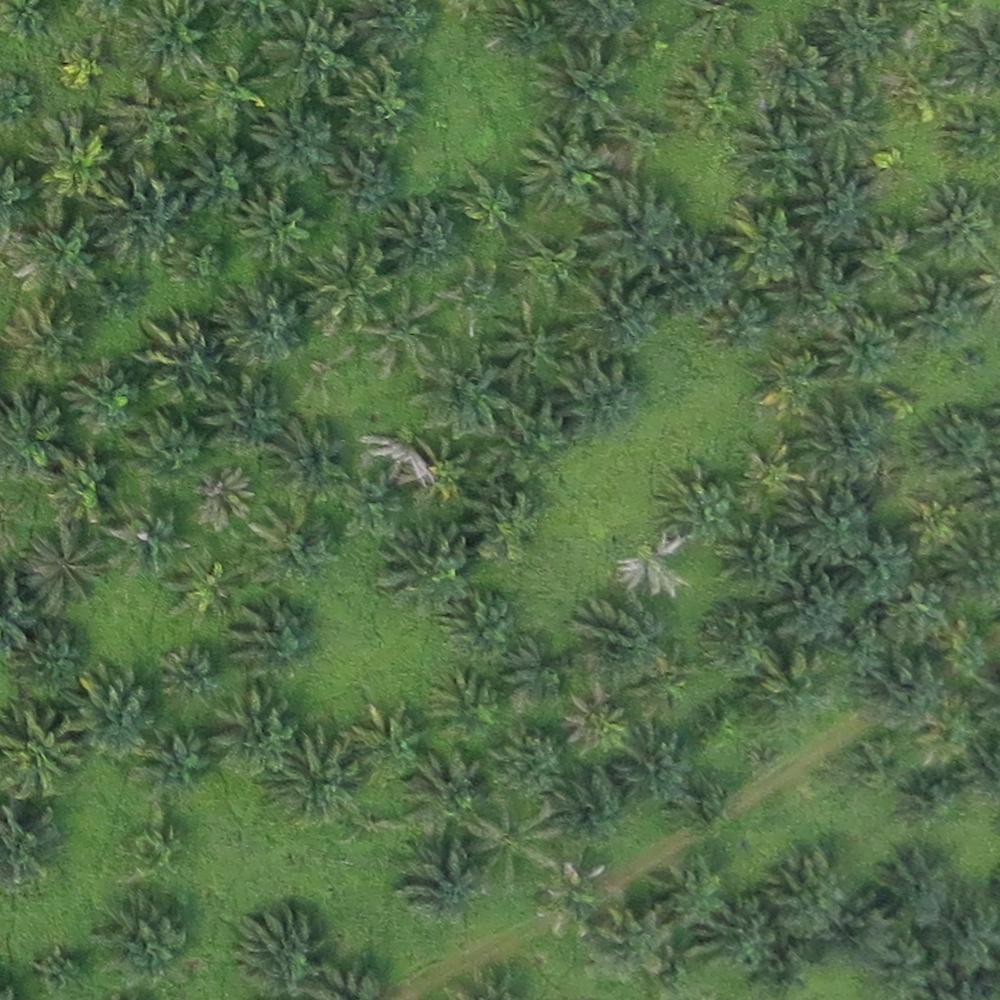Palm: (522, 42, 628, 135), (94, 891, 192, 984), (588, 182, 687, 274), (396, 834, 488, 931), (455, 471, 550, 563), (517, 125, 611, 217), (222, 592, 316, 683), (231, 902, 322, 996), (373, 524, 465, 615), (73, 663, 157, 761), (263, 1, 353, 92), (563, 271, 660, 355), (3, 698, 86, 796), (94, 168, 183, 259), (408, 359, 503, 444), (20, 523, 107, 615), (275, 731, 363, 821), (215, 279, 306, 365), (301, 243, 387, 333), (585, 898, 678, 981), (653, 460, 739, 549), (255, 417, 346, 501), (569, 596, 662, 677), (790, 482, 877, 567), (481, 305, 572, 386), (213, 690, 300, 774), (766, 847, 848, 936), (251, 100, 336, 184), (406, 749, 490, 834), (12, 212, 98, 295), (334, 55, 417, 141), (506, 228, 595, 308), (249, 501, 335, 583), (916, 178, 995, 267), (805, 79, 887, 164), (161, 550, 249, 629), (123, 2, 212, 80), (137, 313, 220, 396), (720, 198, 801, 283), (696, 893, 778, 976), (31, 117, 114, 198), (805, 402, 889, 482), (187, 51, 268, 133), (105, 77, 187, 157), (205, 375, 285, 457), (36, 447, 116, 529), (728, 115, 812, 193), (795, 163, 875, 243), (873, 845, 950, 928), (902, 274, 981, 354), (564, 359, 646, 436), (444, 164, 522, 244), (819, 306, 900, 383), (862, 649, 945, 724), (544, 771, 628, 845), (375, 197, 450, 278), (235, 189, 313, 266), (851, 223, 930, 299), (6, 301, 86, 376), (486, 723, 566, 798), (102, 499, 183, 573), (421, 662, 497, 739), (128, 407, 206, 482), (658, 238, 732, 317), (3, 388, 69, 476), (748, 35, 825, 110), (62, 359, 141, 432), (175, 136, 249, 213), (696, 601, 774, 674), (663, 63, 742, 134), (746, 347, 820, 422), (4, 621, 82, 692), (717, 522, 795, 593), (778, 571, 855, 642), (441, 592, 518, 662), (349, 701, 421, 775), (817, 4, 894, 71), (137, 733, 207, 804), (335, 474, 407, 542), (327, 145, 396, 212), (186, 471, 258, 533), (153, 644, 218, 707)
